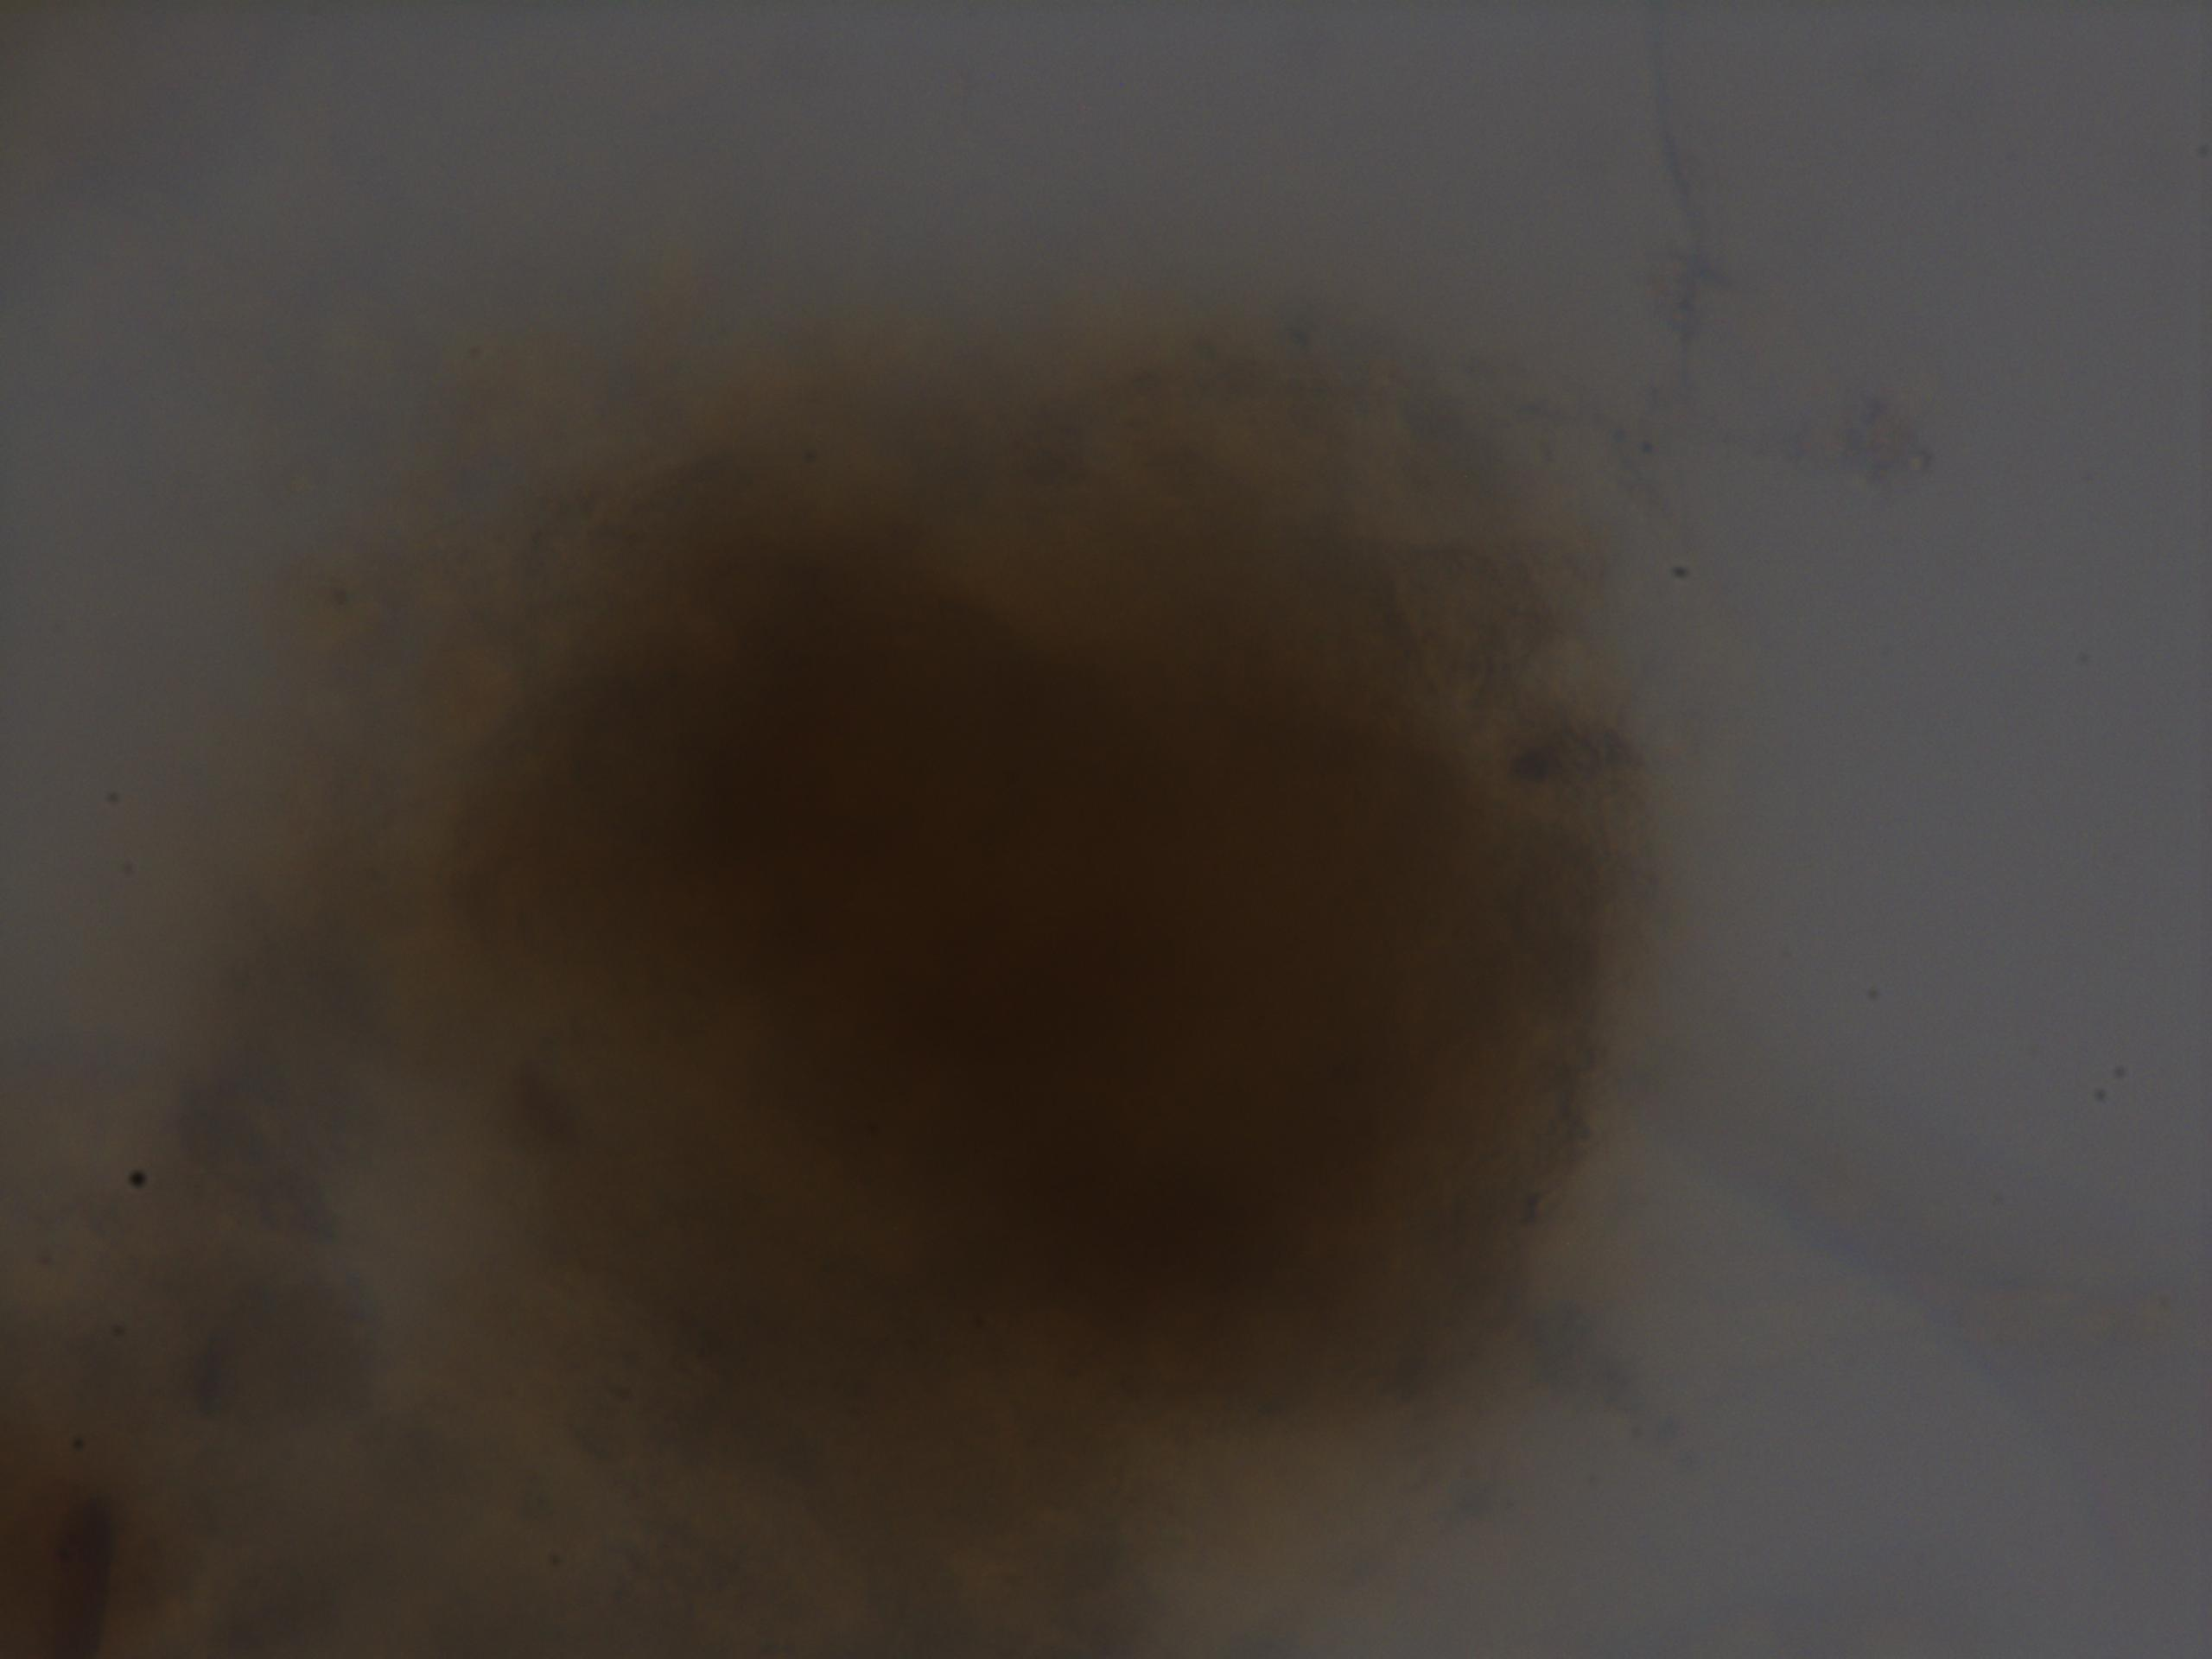spherical_floc: (380, 347, 1653, 1513)
